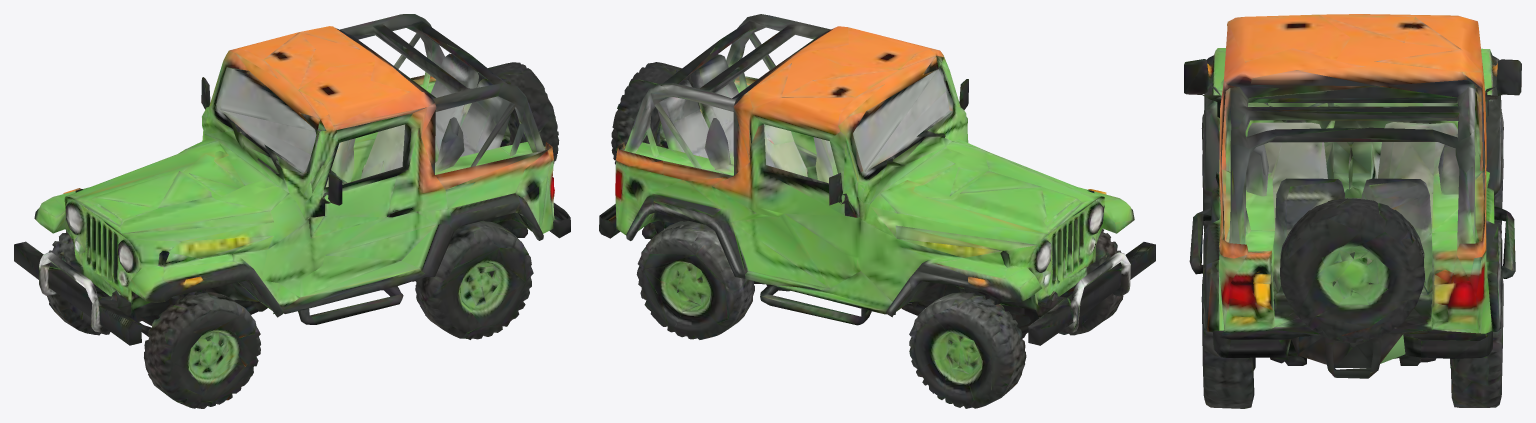
File: vehicle-ranger-jeep.glb
The picture shows the model from 3 angles, left to right: view 1: azimuth 30°, elevation 25°; view 2: azimuth 150°, elevation 25°; view 3: azimuth 270°, elevation 25°; orthographic projection. The views are drawn at different scales.
Bounding box in the file's own units: 1.91 × 0.9943 × 0.9783.
1 material, 1 textured.
